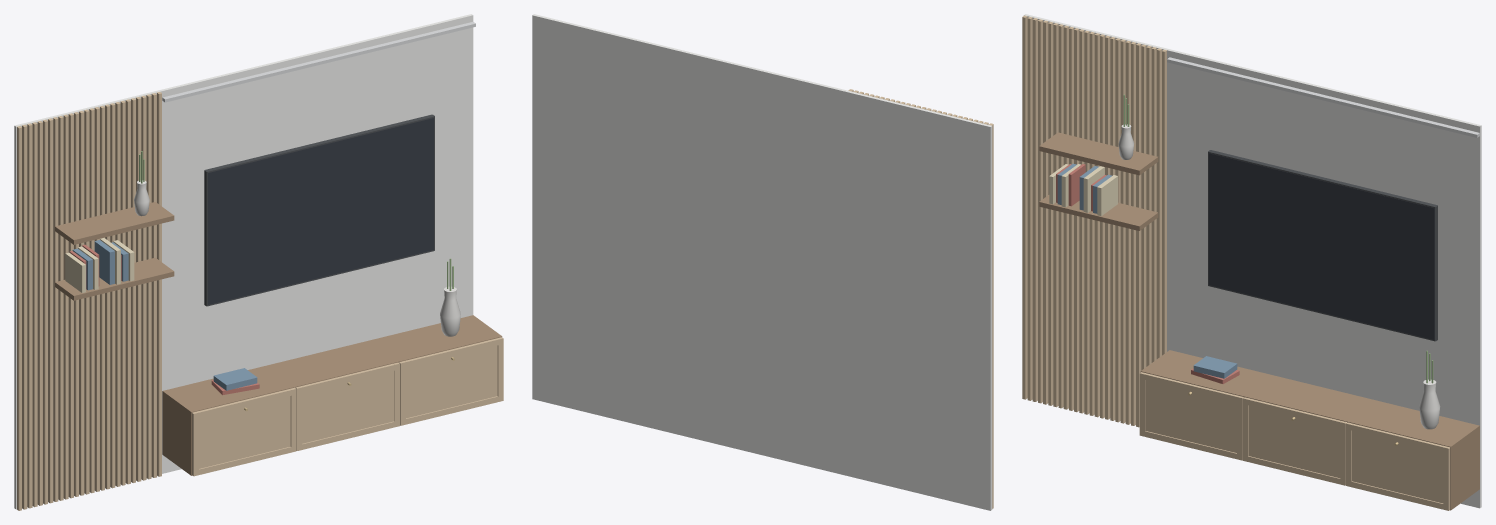
The picture shows the model from 3 angles, left to right: view 1: azimuth 30°, elevation 25°; view 2: azimuth 150°, elevation 25°; view 3: azimuth 330°, elevation 25°; orthographic projection.
Visible parts, largest first — view 1: Vách tivi Dài=3000; Sâu=350; view 2: Vách tivi Dài=3000; Sâu=350; view 3: Vách tivi Dài=3000; Sâu=350.
Part boxes in pixels (x1,y1,x2,y2): Vách tivi Dài=3000; Sâu=350: (14, 14, 503, 510); Vách tivi Dài=3000; Sâu=350: (532, 14, 993, 510); Vách tivi Dài=3000; Sâu=350: (1022, 14, 1481, 510).
Bounding box in the file's own units: 3 × 2.4 × 0.39.
